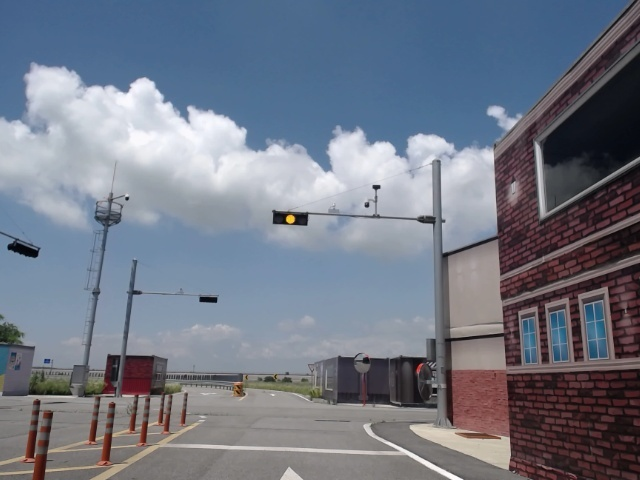orange_3: (272, 210, 307, 225)
